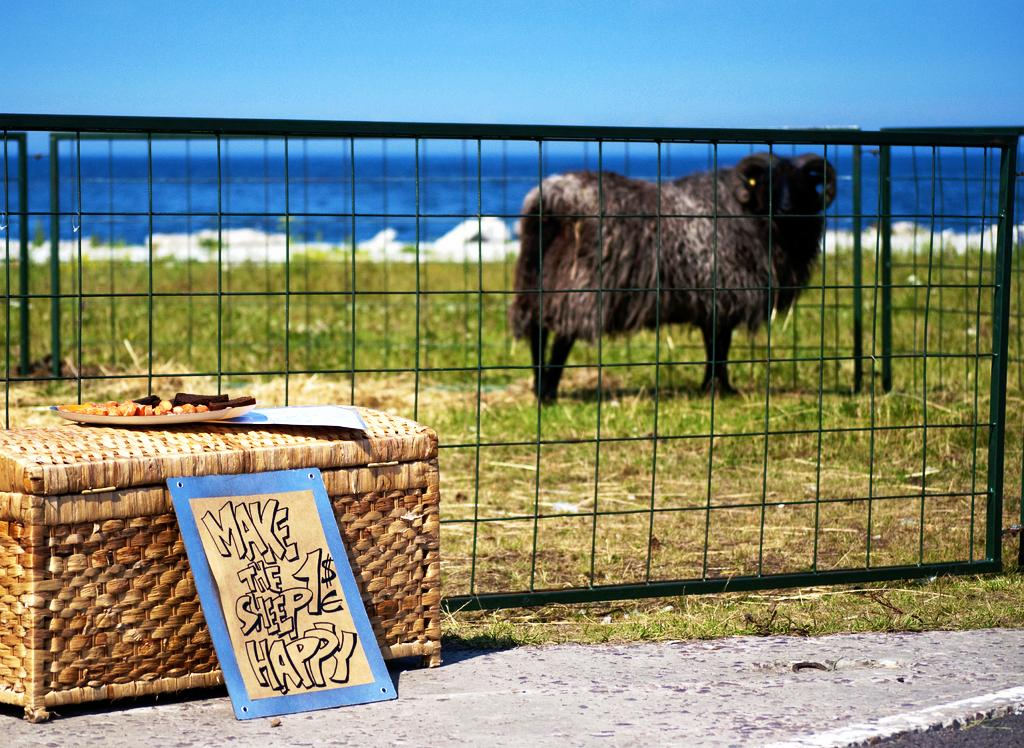Sheep: (512, 153, 838, 405)
